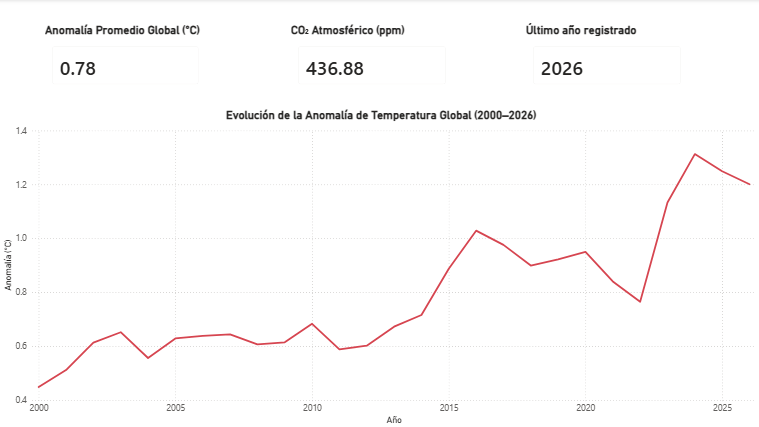

What the dashboard file says about the page in this screenshot:
{"tool":"powerbi","page":{"name":"Resumen Global","canvas":[1280,720],"ordinal":0},"visuals":[{"type":"cardVisual","title":"Anomalía Promedio Global (°C)","fields":{"Data":["Avg(temp_global_clean.temp_anomaly_c)"]},"box":[70.6,40.3,280.5,120.9],"z":0},{"type":"cardVisual","title":" CO₂ Atmosférico (ppm)","fields":{"Data":["Max(temp_global_clean.co2_ppm)"]},"box":[483.8,40.3,282.2,120.9],"z":1000},{"type":"cardVisual","title":"Último año registrado","fields":{"Data":["temp_global_clean.Ultimo Año"]},"box":[878.5,40.3,282.2,120.9],"z":2000},{"type":"lineChart","title":"Evolución de la Anomalía de Temperatura Global (2000–2026)","fields":{"Category":["temp_global_clean.year"],"Y":["Avg(temp_global_clean.temp_anomaly_c)"]},"box":[0,183.1,1280,537.5],"z":3000}]}

Visuals, with their boxes in screenshot pixels (x1, y1, x2, y2), scaled from the page's 1280x720 canvas onto the 759x427 screenshot:
"Anomalía Promedio Global (°C)" cardVisual: locate(42, 24, 208, 96)
" CO₂ Atmosférico (ppm)" cardVisual: locate(287, 24, 454, 96)
"Último año registrado" cardVisual: locate(521, 24, 688, 96)
"Evolución de la Anomalía de Temperatura Global (2000–2026)" lineChart: locate(0, 109, 758, 426)
